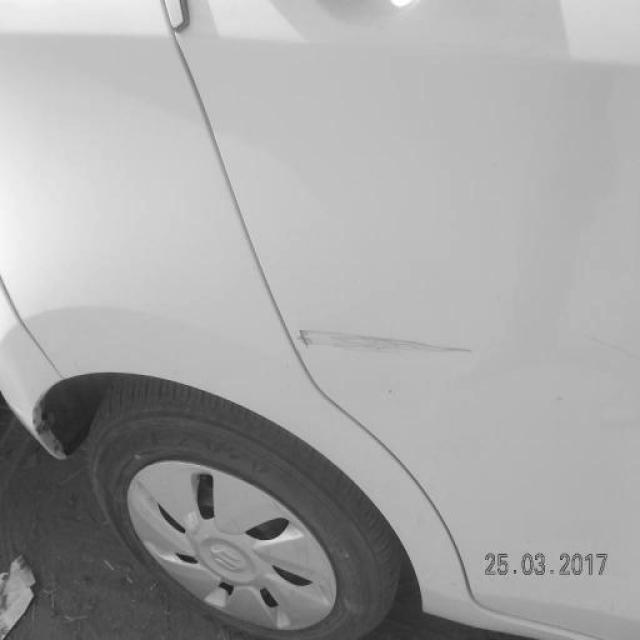scratch: (293, 326, 476, 357)
